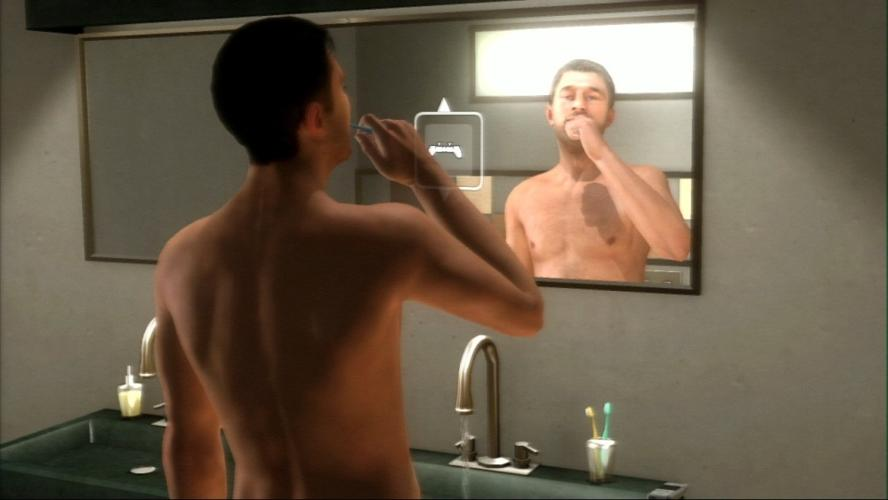person: (145, 14, 550, 500)
